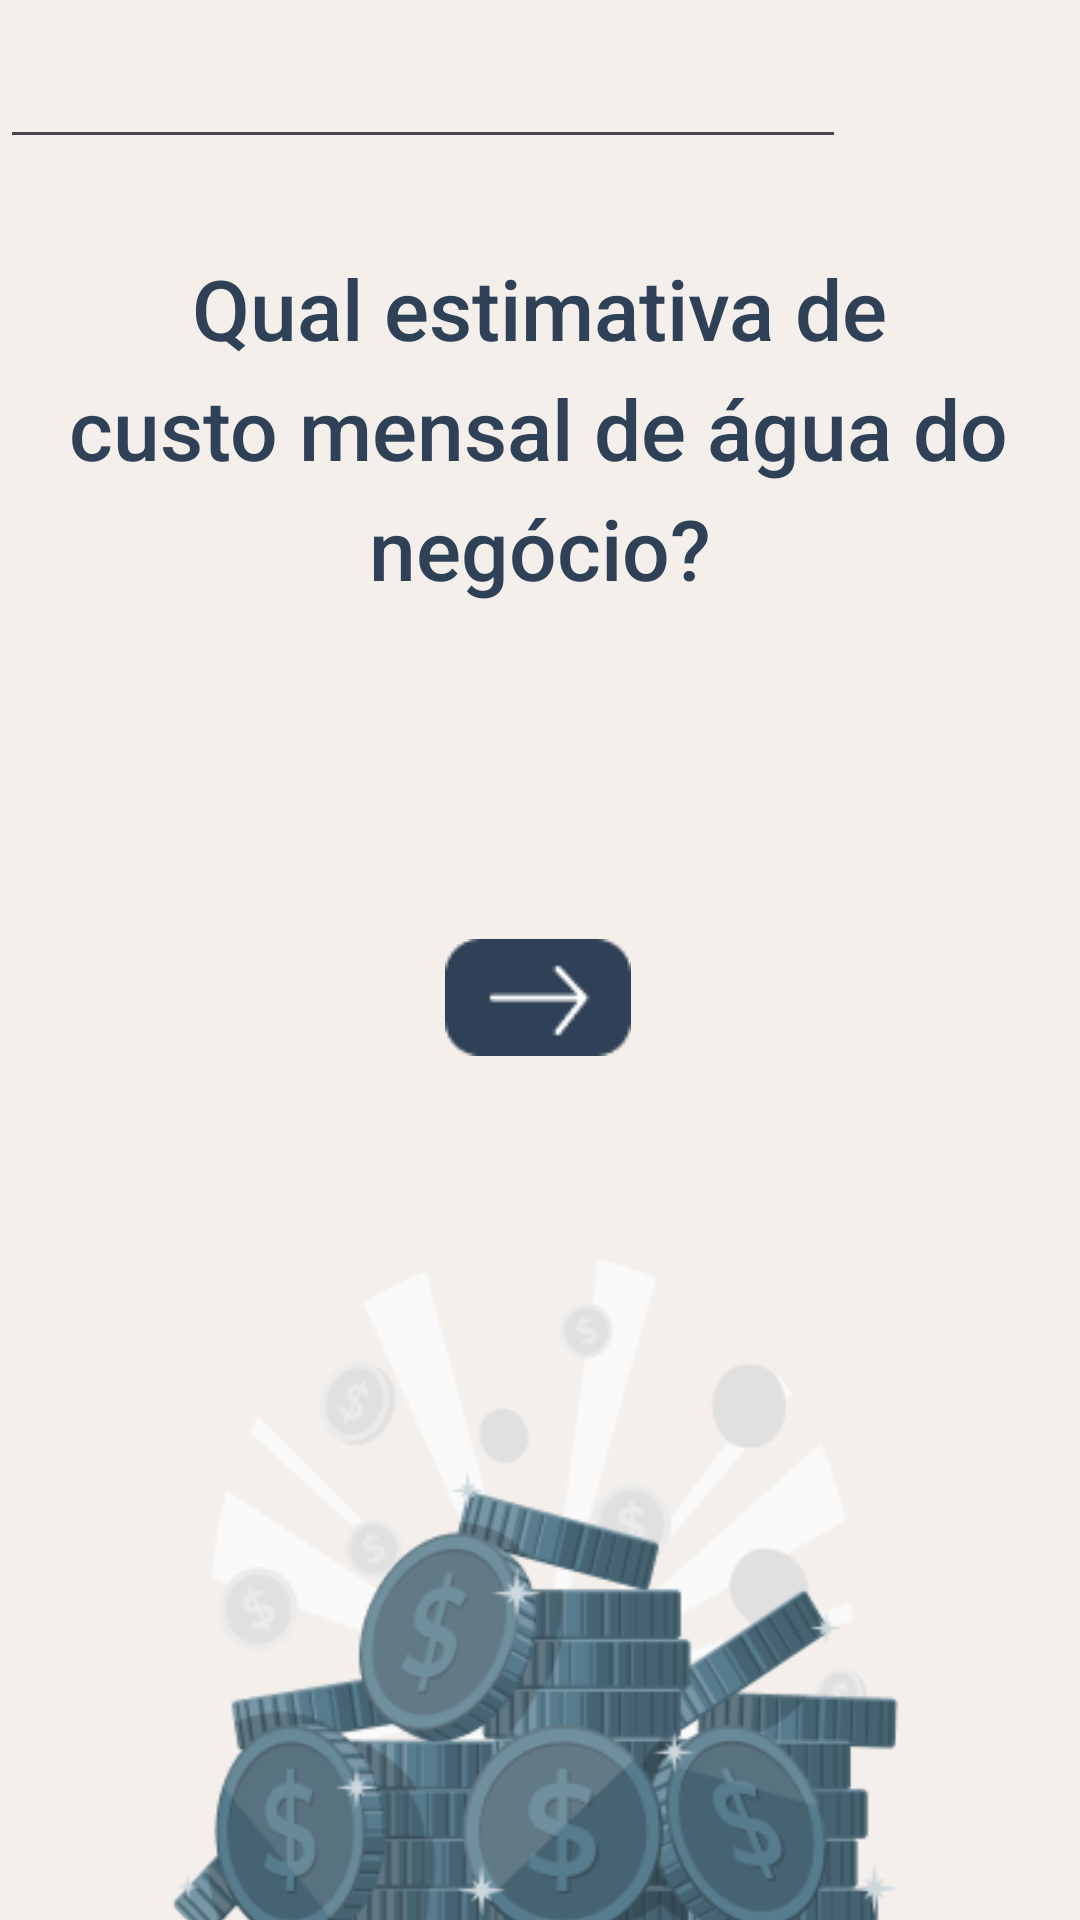

Icon bounding boxes for this 1080x1920 phone screenshot, format (x1,y1,x2,y2):
btnpassar: (445,939,631,1056)
